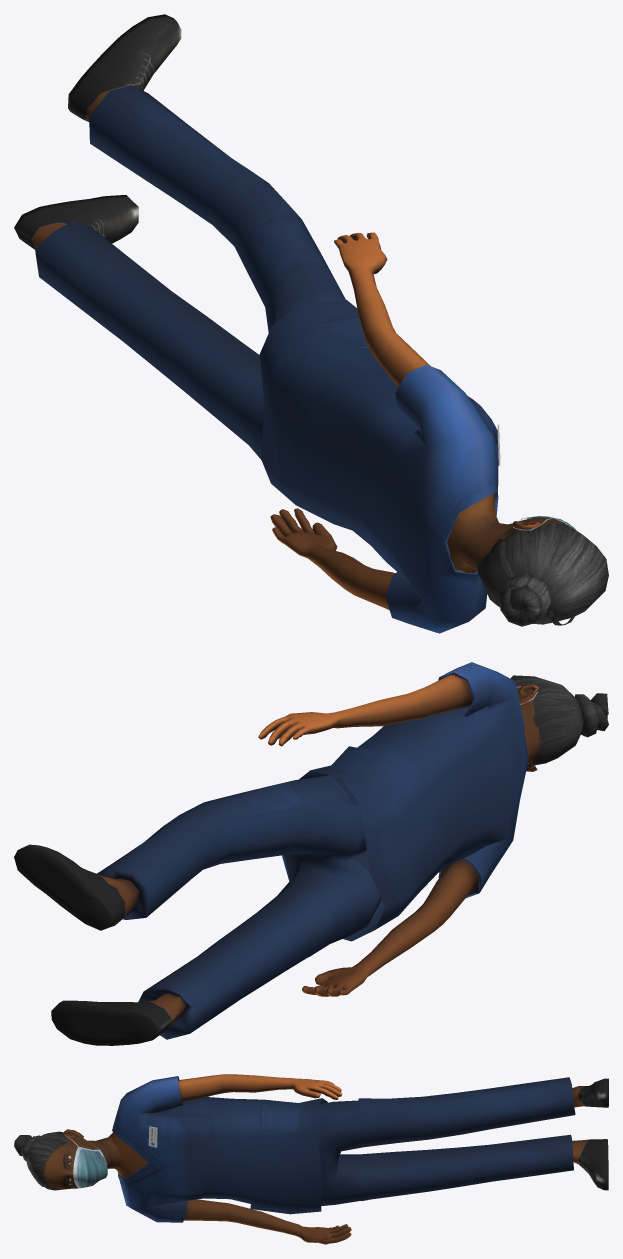
File: scrubs.obj
3 views of the same model, one above another, from view 1: azimuth 30°, elevation 25°; view 2: azimuth 150°, elevation 25°; view 3: azimuth 270°, elevation 25° (orthographic). The views are drawn at different scales.
Parts seen in each view (by area): view 1: scrubs.002; view 2: scrubs.002; view 3: scrubs.002.
Boxes of the visible parts, box(x1,y1,x2,y2) form: scrubs.002: box(14, 14, 608, 633); scrubs.002: box(14, 662, 608, 1045); scrubs.002: box(14, 1074, 608, 1244).
Bounding box in the file's own units: 0.3211 × 0.5573 × 1.61.
Materials: 1 (1 with a texture image).
